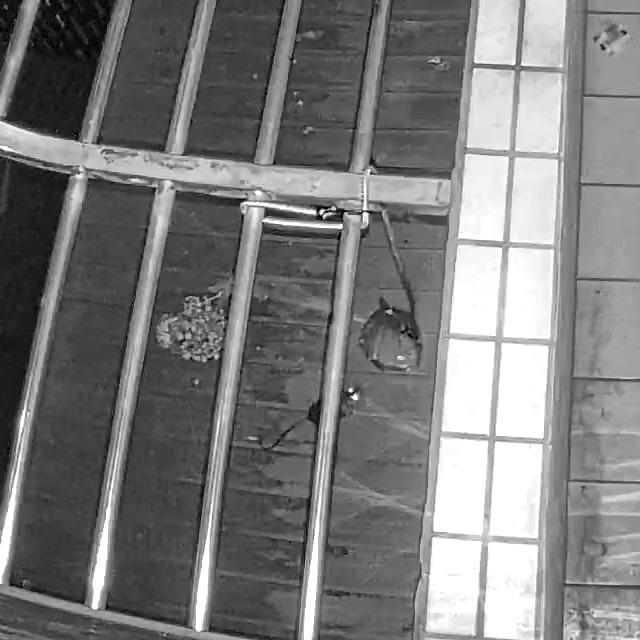rat: (255, 384, 365, 454)
